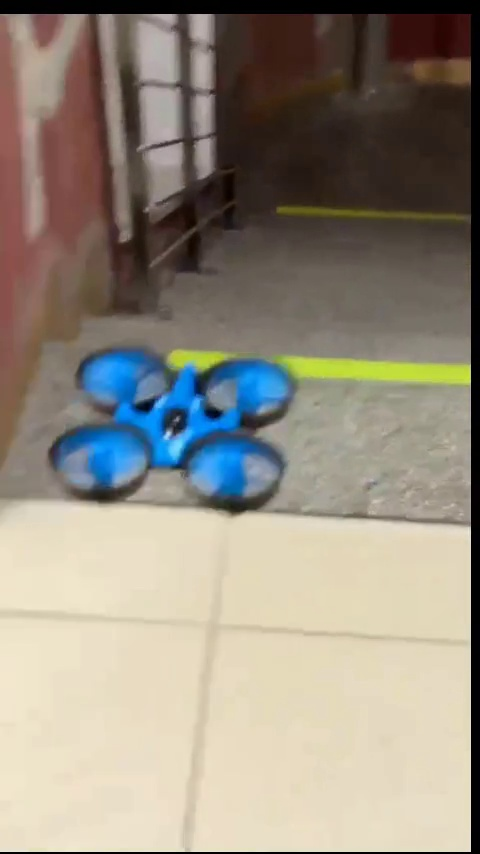drone: (65, 350, 293, 515)
